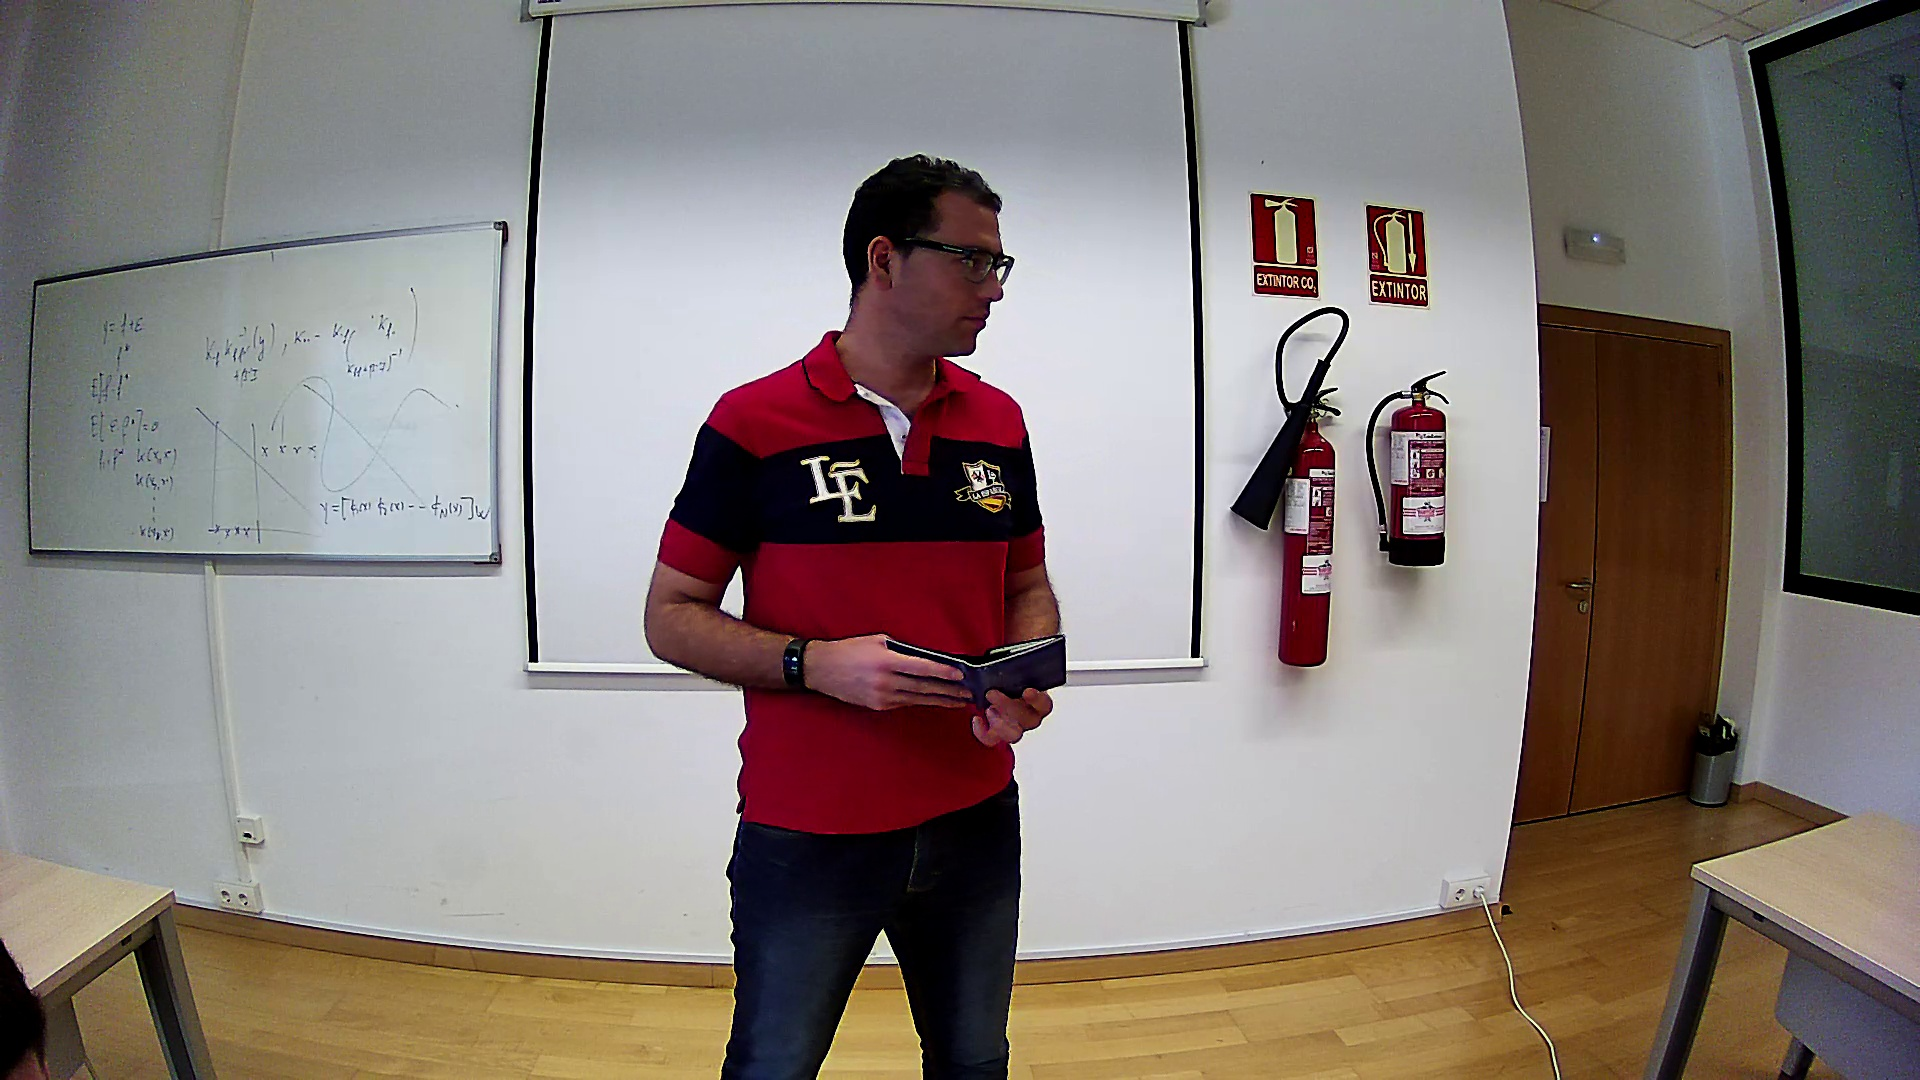monedero: (884, 634, 1068, 709)
